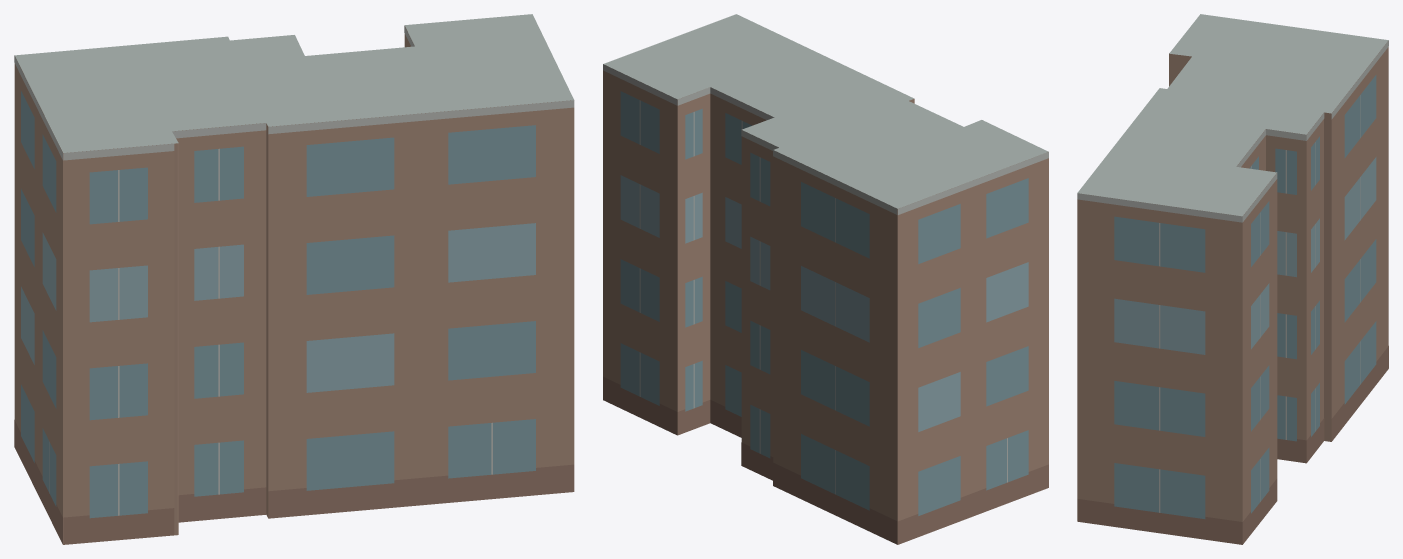
File: survey-upis-32557120.glb
The picture shows the model from 3 angles, left to right: view 1: azimuth 30°, elevation 25°; view 2: azimuth 150°, elevation 25°; view 3: azimuth 270°, elevation 25°; orthographic projection. The views are drawn at different scales.
Parts seen in each view (by area): view 1: survey-upis-32557120.tmp; view 2: survey-upis-32557120.tmp; view 3: survey-upis-32557120.tmp.
Part boxes in pixels (x1=…): survey-upis-32557120.tmp: x1=14, y1=14, x2=574, y2=544; survey-upis-32557120.tmp: x1=603, y1=14, x2=1048, y2=544; survey-upis-32557120.tmp: x1=1077, y1=14, x2=1388, y2=544.
Bounding box in the file's own units: 16.92 × 12.8 × 11.01.
